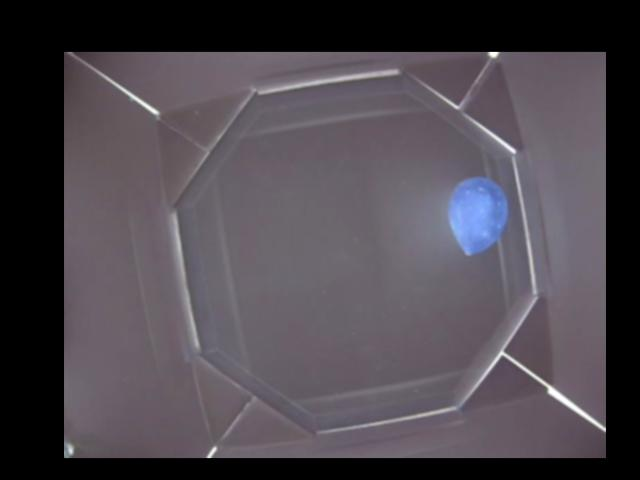Potato: (446, 177, 511, 255)
